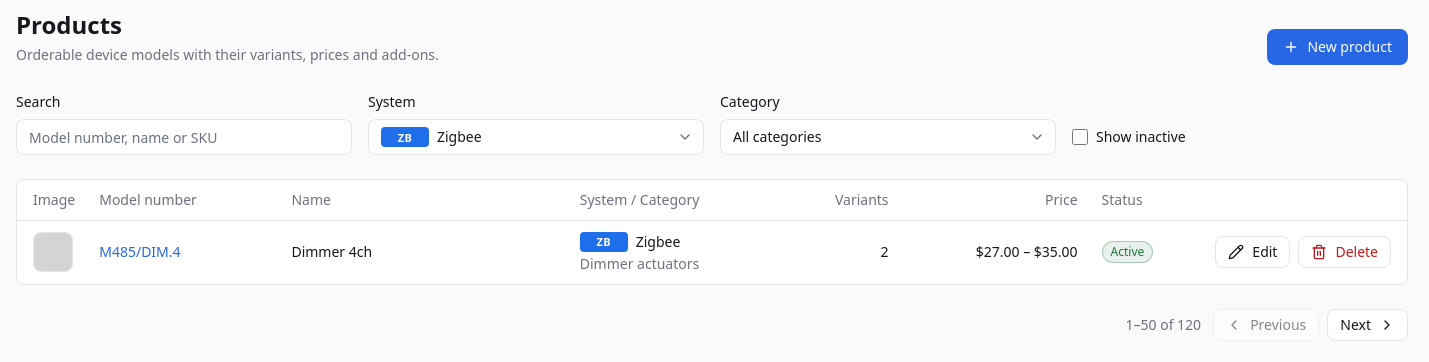
ProductsPage › pages with Previous and Next, showing where the page is
The width and height of the screenshot is (1429, 362).
Expected: the text "1–50 of 120" is shown, [1126,314,1201,334]
Expected: the button "Previous" is disabled, [1213,308,1319,340]
Click the button "Next" at (1368, 324), box [1327,308,1408,340]
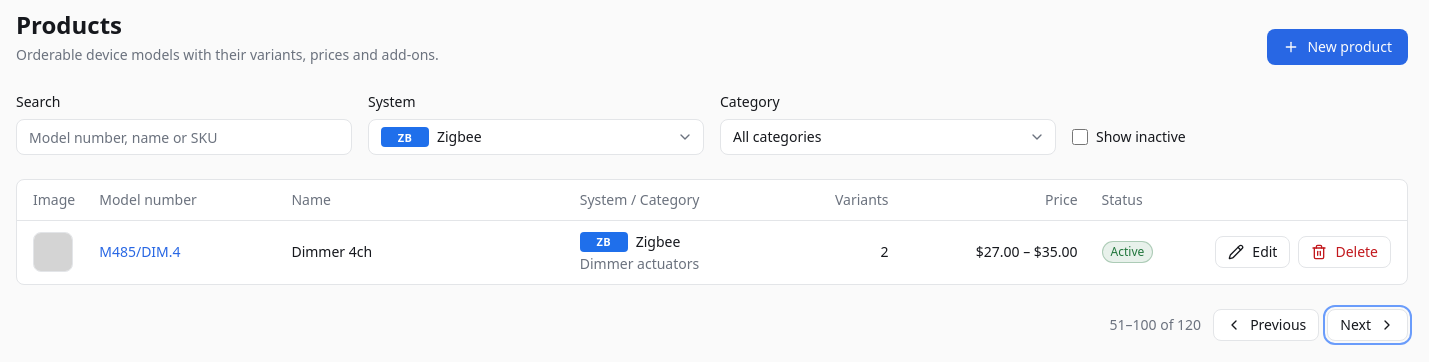
Now the text "51–100 of 120" is shown, box [1110,314,1201,334]
Click the button "Next" at (1368, 324), box [1327,308,1408,340]
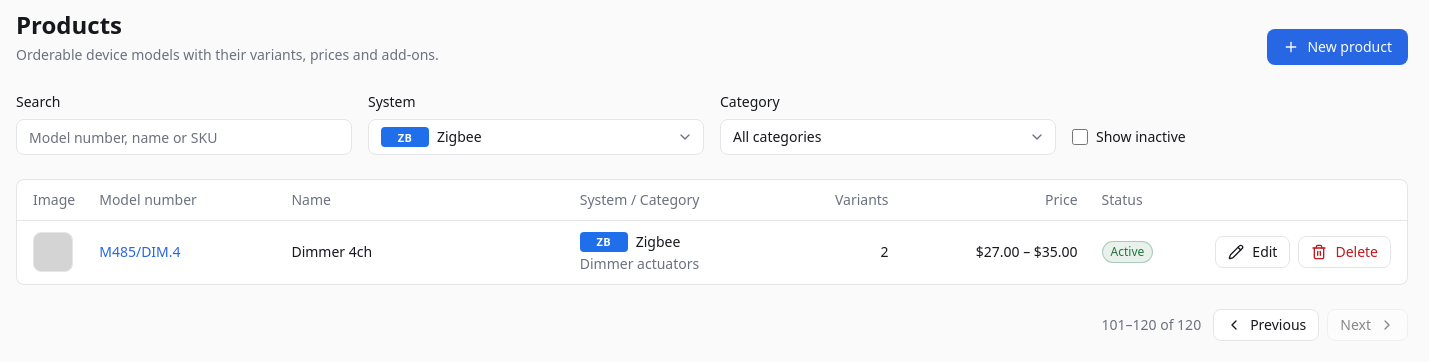
Now the text "101–120 of 120" is shown, box [1102,314,1201,334]
Now the button "Next" is disabled, box [1327,308,1408,340]
Click the button "Previous" at (1266, 324), box [1213,308,1319,340]
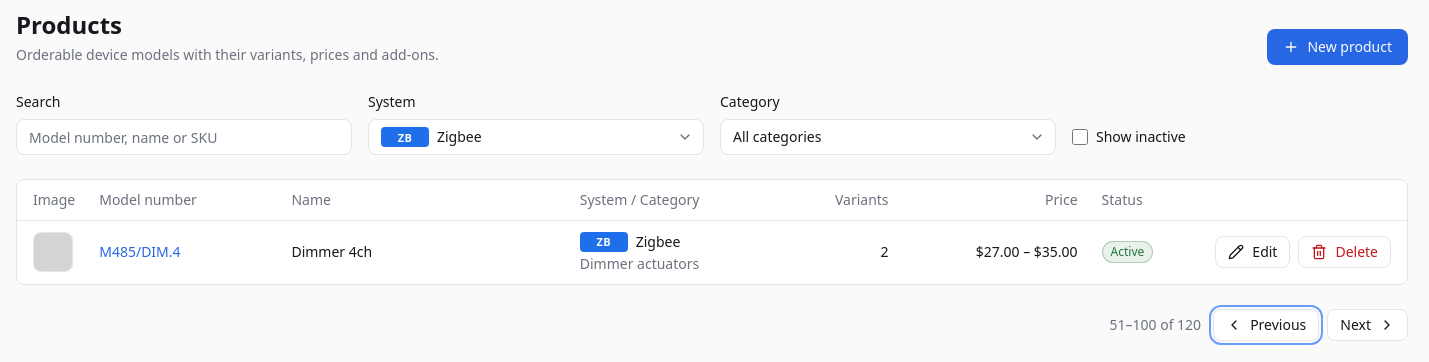
Now the text "51–100 of 120" is shown, box [1110,314,1201,334]
